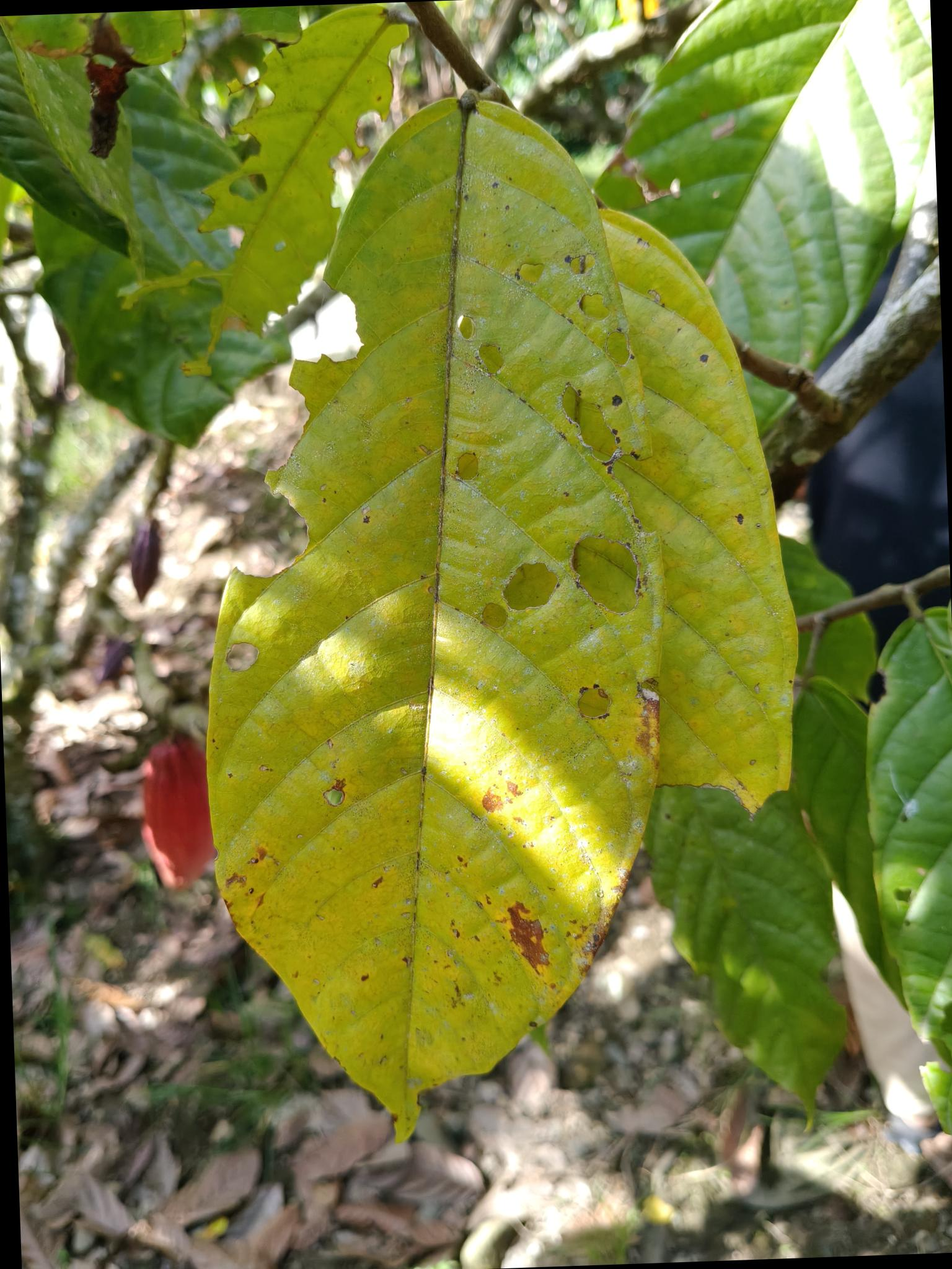Fosforo: (193, 90, 680, 1145)
